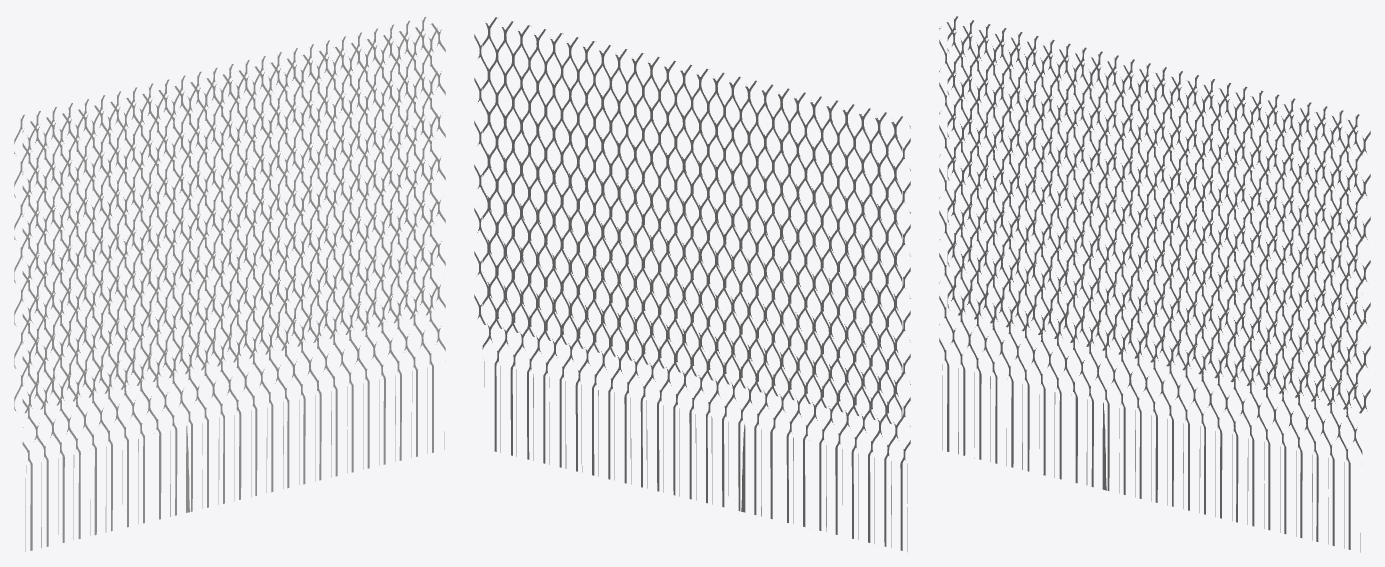
Rendered from block fence.fbx.
3 renders of one model, left to right at view 1: azimuth 30°, elevation 25°; view 2: azimuth 150°, elevation 25°; view 3: azimuth 330°, elevation 25°, orthographic.
Visible parts, largest first — view 1: pCube417; view 2: pCube417; view 3: pCube417.
Part boxes in pixels (left/top/right/bottom): pCube417: left=14, top=17, right=445, bottom=551; pCube417: left=474, top=17, right=910, bottom=551; pCube417: left=939, top=16, right=1370, bottom=552.
Size of the model in its own units: 9.95 by 9.65 by 0.3394.
1 material, 1 textured.
